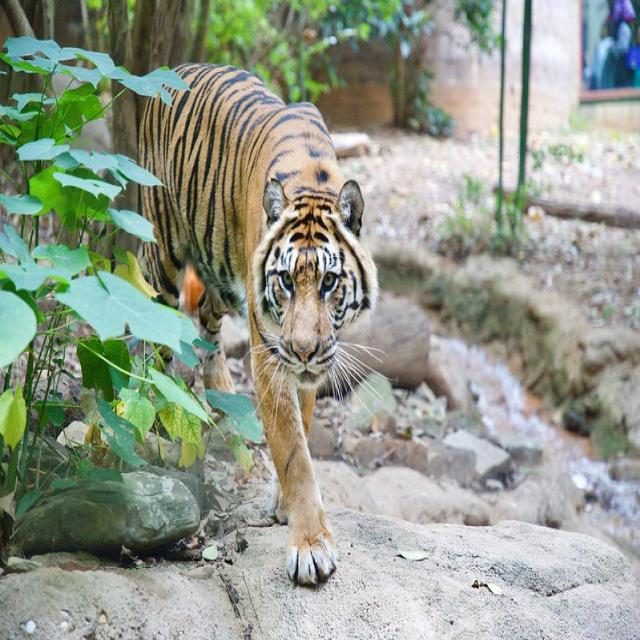Tiger: (138, 62, 376, 590)
